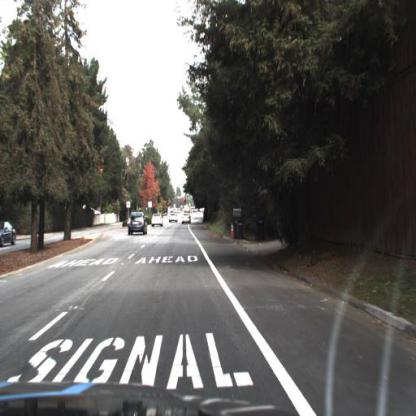car: (126, 211, 149, 240), (2, 221, 19, 250), (179, 204, 195, 226), (150, 212, 164, 230), (168, 211, 178, 227)
